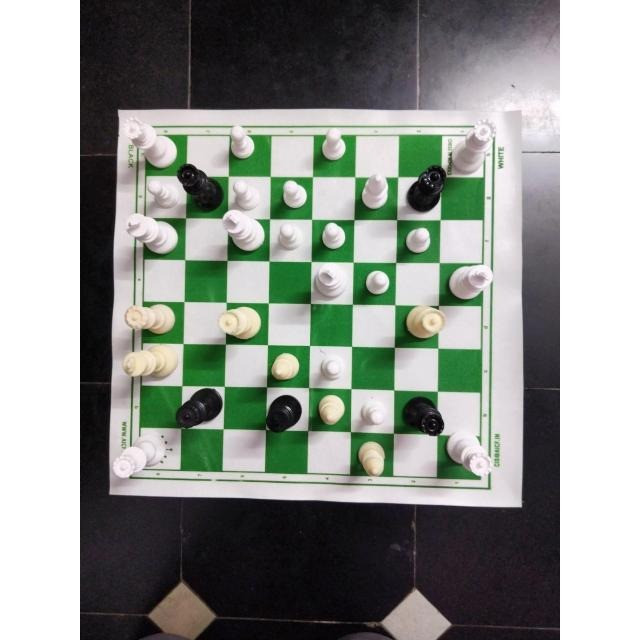black-king: (265, 391, 303, 434)
black-queen: (173, 386, 226, 428), (178, 165, 223, 214), (398, 391, 446, 436), (404, 162, 449, 209)
white-bishop: (354, 171, 393, 215), (353, 435, 387, 480), (270, 347, 302, 383), (315, 391, 347, 427)
white-king: (116, 344, 184, 382), (124, 211, 180, 253), (448, 261, 496, 302), (222, 208, 264, 254), (310, 263, 352, 302)
white-pawn: (224, 119, 258, 163), (145, 175, 181, 211), (276, 177, 309, 213), (227, 177, 260, 212), (356, 393, 389, 428), (315, 350, 349, 383), (319, 125, 347, 164), (403, 221, 434, 256), (359, 266, 392, 298), (274, 221, 304, 255), (316, 219, 346, 250)
white-queen: (118, 112, 178, 169), (114, 432, 166, 488), (444, 429, 496, 481), (451, 117, 496, 175), (122, 302, 178, 337), (403, 303, 445, 345), (218, 303, 262, 343)
